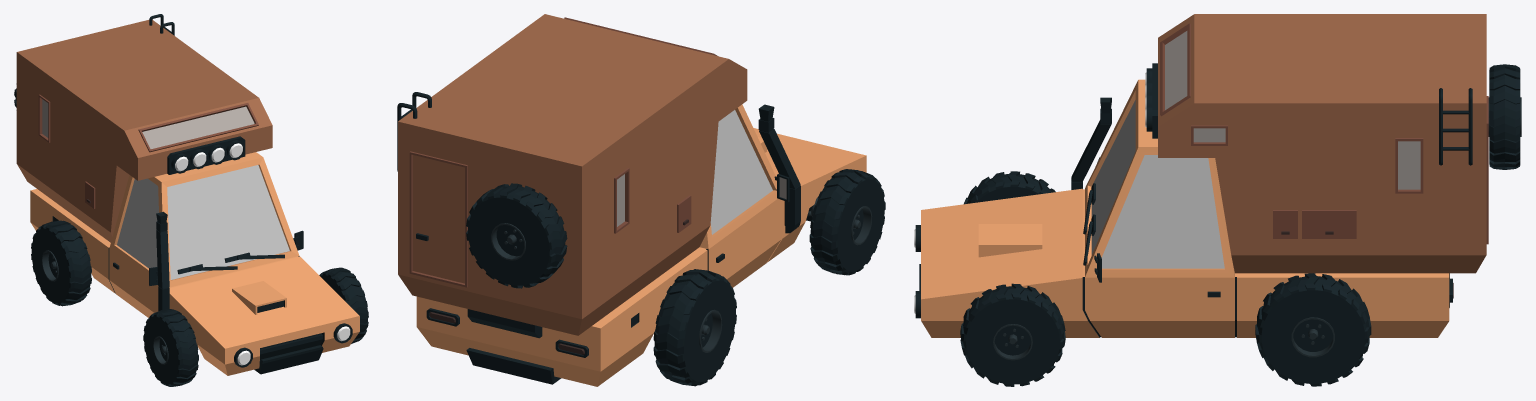
Rendered from car_3.obj.
3 views of the same model, side by side, from view 1: azimuth 30°, elevation 25°; view 2: azimuth 150°, elevation 25°; view 3: azimuth 270°, elevation 25° (orthographic). The views are drawn at different scales.
Parts seen in each view (by area): view 1: Frame, Rear_wheel.001, Front_wheel.001, Front_wheel; view 2: Frame, Rear_wheel.001, Front_wheel.001; view 3: Frame, Rear_wheel, Front_wheel, Front_wheel.001.
Boxes of the visible parts, x1,y1,x2,y2 form: Frame: [14, 14, 359, 375]; Rear_wheel.001: [31, 220, 91, 306]; Front_wheel.001: [143, 309, 198, 386]; Front_wheel: [319, 267, 368, 343]; Frame: [397, 14, 866, 386]; Rear_wheel.001: [653, 269, 736, 386]; Front_wheel.001: [809, 169, 885, 275]; Frame: [914, 14, 1521, 337]; Rear_wheel: [1255, 273, 1371, 386]; Front_wheel: [960, 283, 1065, 386]; Front_wheel.001: [964, 171, 1055, 204].
Size of what is drawn, in the model's own units: 2.84 by 2.94 by 5.75.
